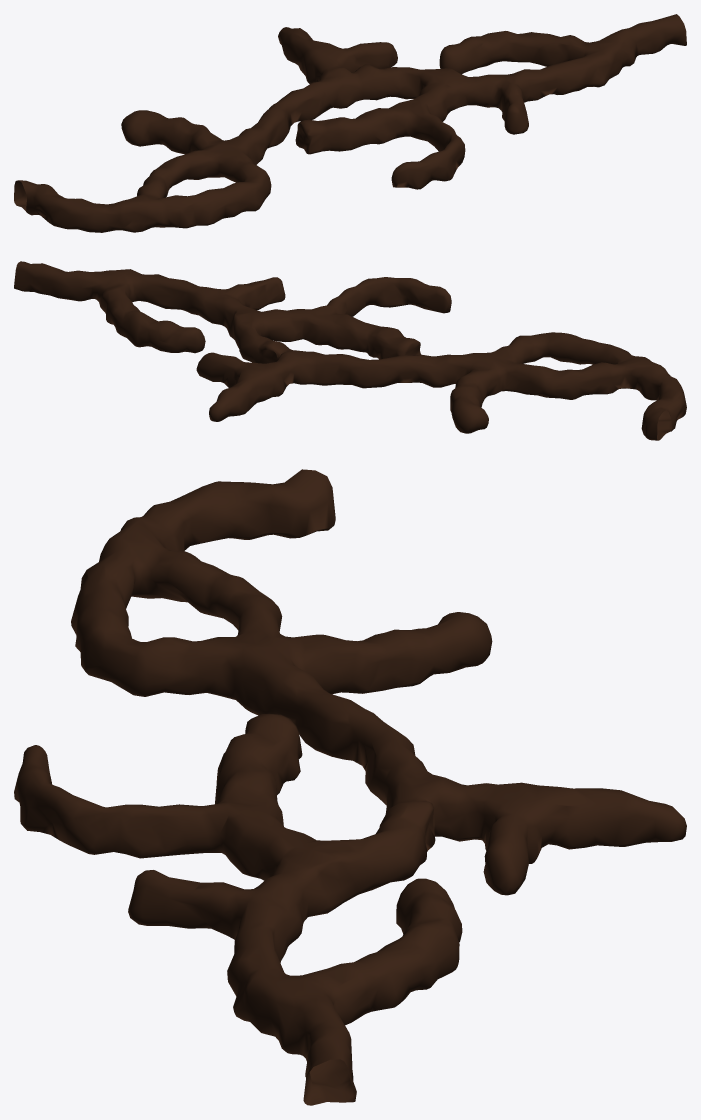
The model's file is cave7.fbx.
3 views of the same model, one above another, from view 1: azimuth 30°, elevation 25°; view 2: azimuth 150°, elevation 25°; view 3: azimuth 270°, elevation 25° (orthographic). The views are drawn at different scales.
Parts seen in each view (by area): view 1: Cube.001; view 2: Cube.001; view 3: Cube.001.
Boxes of the visible parts, left/top/right/bottom form: Cube.001: left=14, top=14, right=686, bottom=232; Cube.001: left=14, top=261, right=686, bottom=440; Cube.001: left=14, top=469, right=686, bottom=1105.
Size of the model in its own units: 22706 by 985 by 10978.
